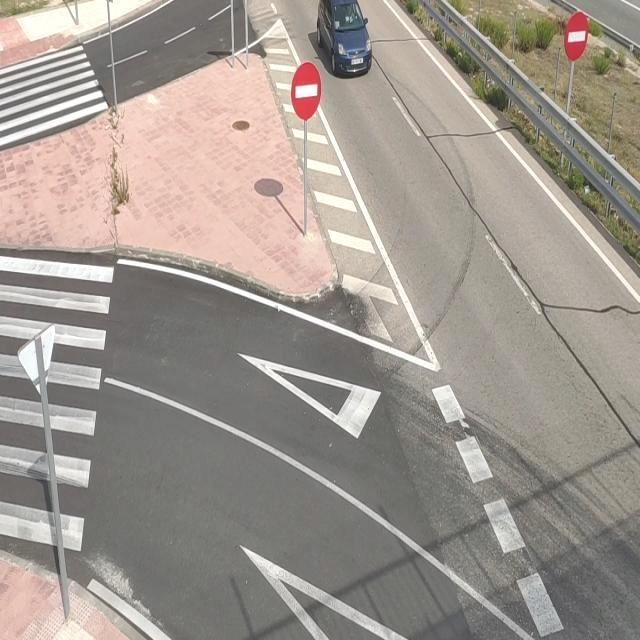Car: (311, 0, 375, 85)
